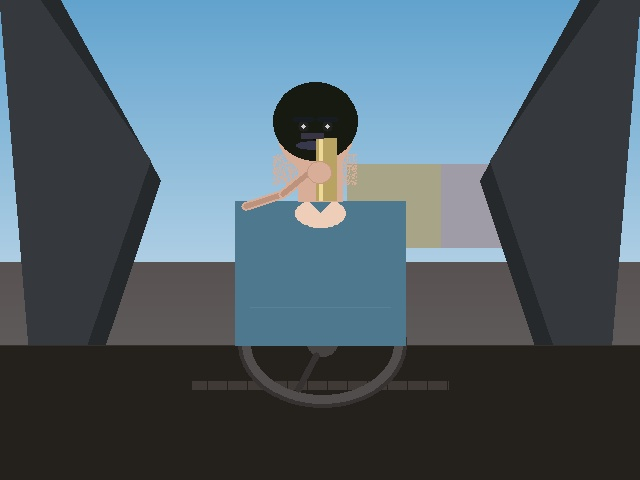drinking: (292, 123, 346, 210)
